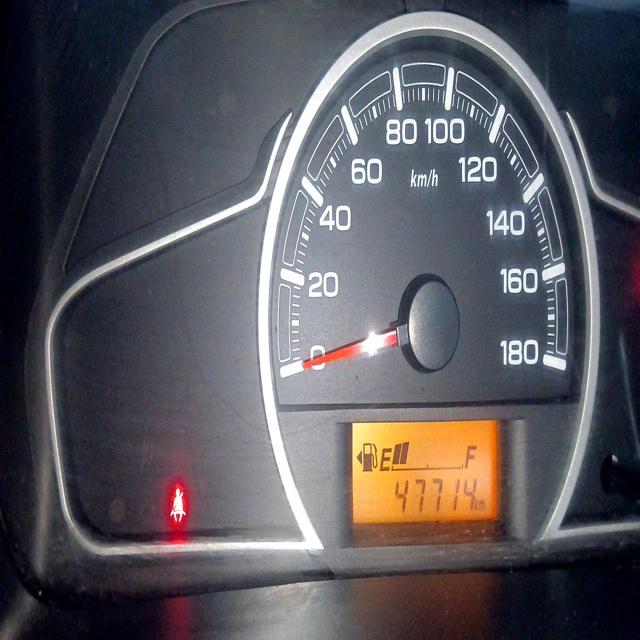odometer: (393, 475, 478, 516)
